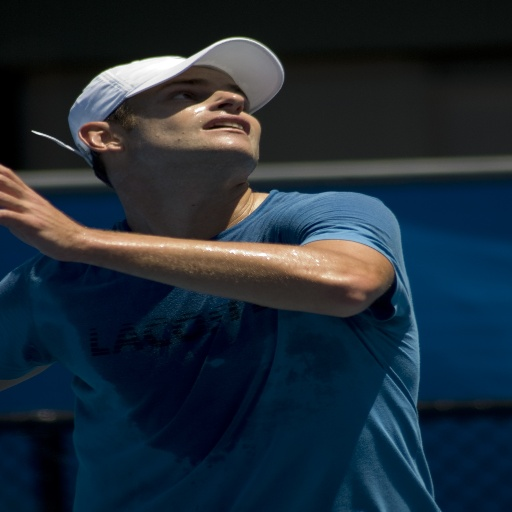hand: (1, 162, 107, 262)
